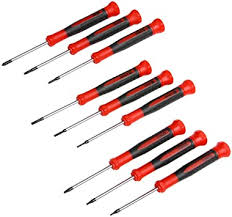Screwdriver: (22, 68, 216, 149)
